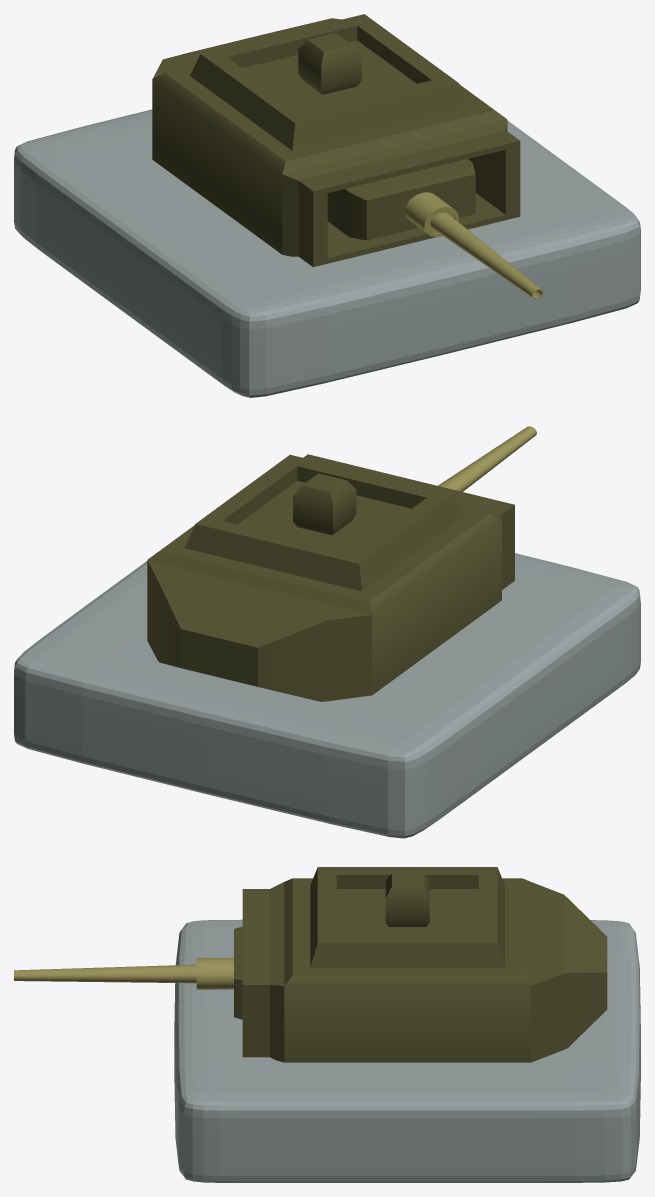
File: VastaCannon1.fbx
3 views of the same model, one above another, from view 1: azimuth 30°, elevation 25°; view 2: azimuth 150°, elevation 25°; view 3: azimuth 270°, elevation 25° (orthographic). The views are drawn at different scales.
Visible parts, largest first — view 1: Mark 1 roots, Mark 1 body, gun 2; view 2: Mark 1 roots, Mark 1 body, gun 2; view 3: Mark 1 roots, Mark 1 body, gun 2.
Boxes of the visible parts, bbox=[...] form: Mark 1 roots: bbox=[14, 109, 640, 397]; Mark 1 body: bbox=[152, 14, 520, 267]; gun 2: bbox=[404, 192, 543, 299]; Mark 1 roots: bbox=[14, 553, 640, 838]; Mark 1 body: bbox=[147, 454, 514, 701]; gun 2: bbox=[438, 426, 536, 491]; Mark 1 roots: bbox=[174, 919, 640, 1182]; Mark 1 body: bbox=[234, 867, 607, 1062]; gun 2: bbox=[14, 957, 233, 989].
Size of the model in its own units: 204 by 108 by 285.
